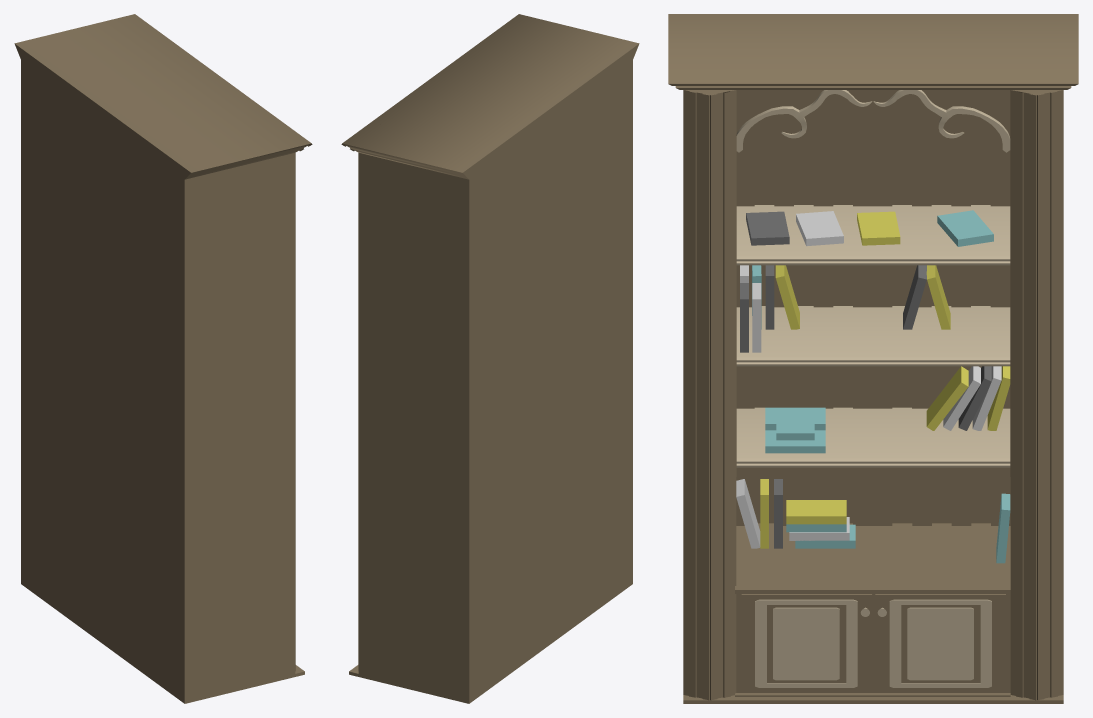
The model's file is livingRoom_bookshelf.fbx.
The picture shows the model from 3 angles, left to right: view 1: azimuth 30°, elevation 25°; view 2: azimuth 150°, elevation 25°; view 3: azimuth 270°, elevation 25°; orthographic projection. The views are drawn at different scales.
Parts seen in each view (by area): view 1: Cube.008, Plane, Cube.007, Cube; view 2: Cube.007, Plane, Cube, Cube.008; view 3: Cube, Cube.002, Cube.007, Cube.008, door_left, door_right, Cube.011, Cube.015, Cube.035, Cube.032, Cube.031, Cube.033 (+15 smaller).
Part boxes in pixels (x1,y1,x2,y2): Cube.008: [162, 122, 312, 703]; Plane: [43, 67, 163, 687]; Cube.007: [14, 14, 163, 600]; Cube: [44, 35, 282, 687]; Cube.007: [341, 122, 491, 703]; Plane: [492, 66, 612, 685]; Cube: [372, 35, 610, 686]; Cube.008: [491, 14, 639, 600]; Cube: [735, 14, 1010, 703]; Cube.002: [736, 205, 1010, 467]; Cube.007: [1010, 14, 1078, 703]; Cube.008: [668, 14, 736, 703]; door_left: [741, 594, 872, 692]; door_right: [875, 594, 1005, 692]; Cube.011: [736, 90, 1010, 152]; Cube.015: [786, 500, 846, 524]; Cube.035: [937, 210, 993, 246]; Cube.032: [796, 211, 843, 246]; Cube.031: [746, 211, 789, 245]; Cube.033: [857, 211, 900, 245].
Bounding box in the file's own units: 47.63 × 200 × 120.
